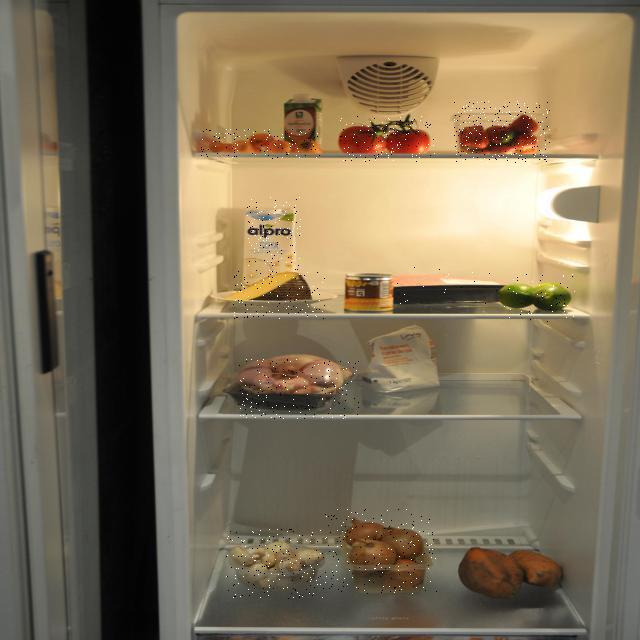carrots: (201, 129, 320, 159)
cheese: (233, 270, 325, 319)
chicken: (238, 358, 359, 419)
lime: (504, 274, 576, 322)
meat: (396, 267, 506, 304)
milk: (247, 197, 301, 276)
mushroom: (226, 529, 326, 599)
onion: (325, 509, 437, 594)
strawberry: (454, 101, 550, 163)
tomatoes: (340, 116, 435, 162)
